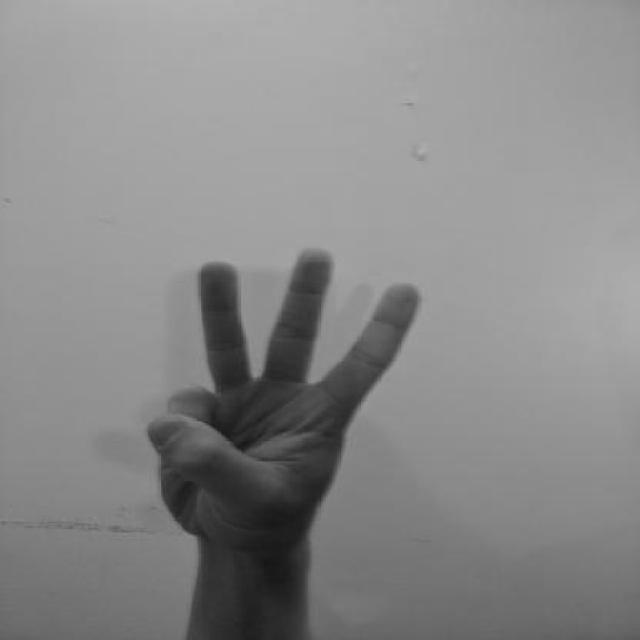W: (141, 242, 425, 550)
